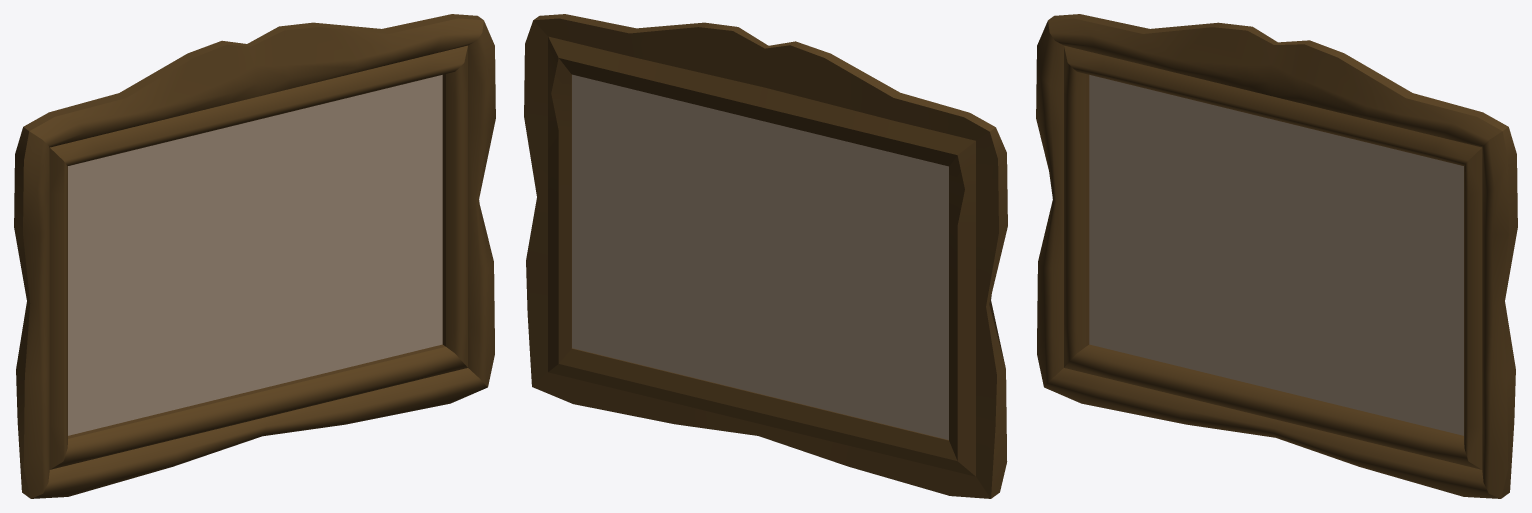
Rendered from Cuadro.fbx.
The picture shows the model from 3 angles, left to right: view 1: azimuth 30°, elevation 25°; view 2: azimuth 150°, elevation 25°; view 3: azimuth 330°, elevation 25°; orthographic projection.
Parts seen in each view (by area): view 1: pCube2, pCube1; view 2: pCube2, pCube1; view 3: pCube2, pCube1.
Part boxes in pixels (<box>): pCube2: <box>68,75,442,435</box>; pCube1: <box>14,14,495,498</box>; pCube2: <box>572,74,948,439</box>; pCube1: <box>524,14,1007,498</box>; pCube2: <box>1089,75,1463,435</box>; pCube1: <box>1036,14,1517,498</box>.
Bounding box in the file's own units: 7.68 × 6.36 × 0.4906.
